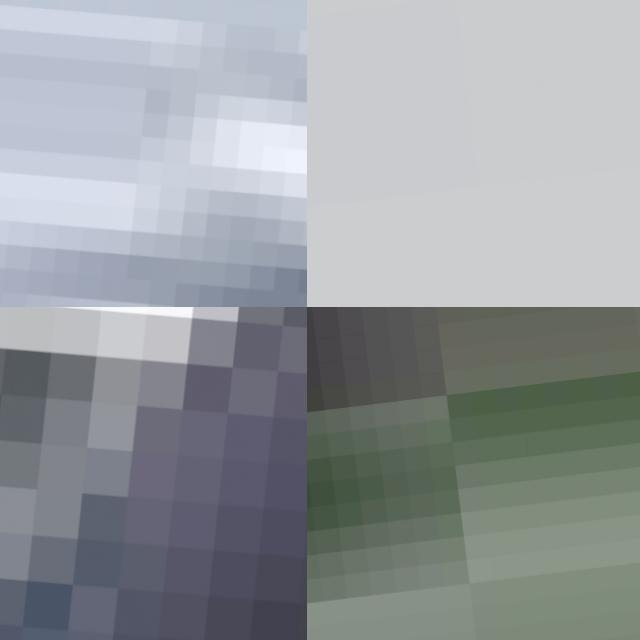0: (0, 0, 307, 307)
drone: (0, 307, 307, 640)
